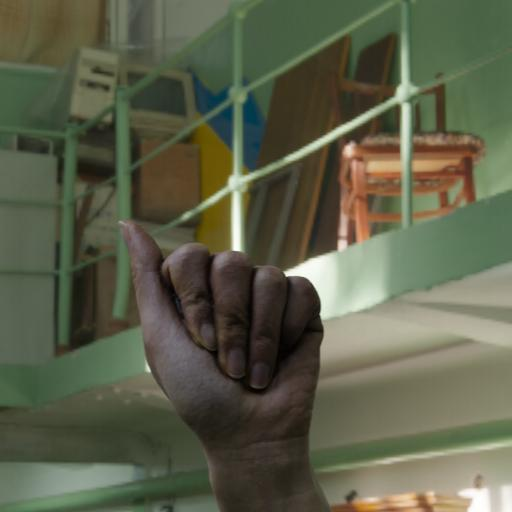A: (103, 203, 359, 465)
